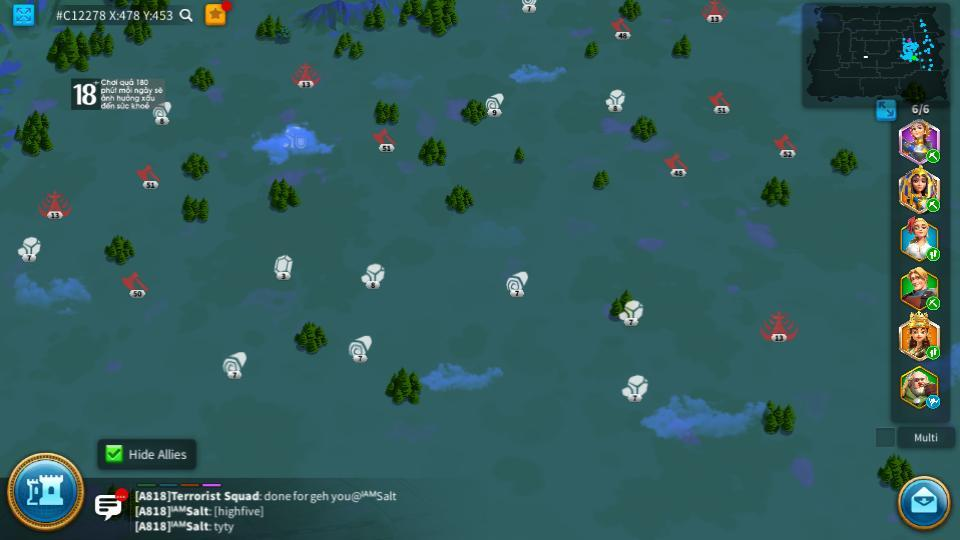gem-z-out: (272, 254, 294, 278)
march_idle: (925, 396, 942, 408)
march_marching: (925, 197, 941, 212), (925, 345, 941, 359), (925, 150, 942, 162), (925, 297, 942, 308), (925, 250, 941, 261)
